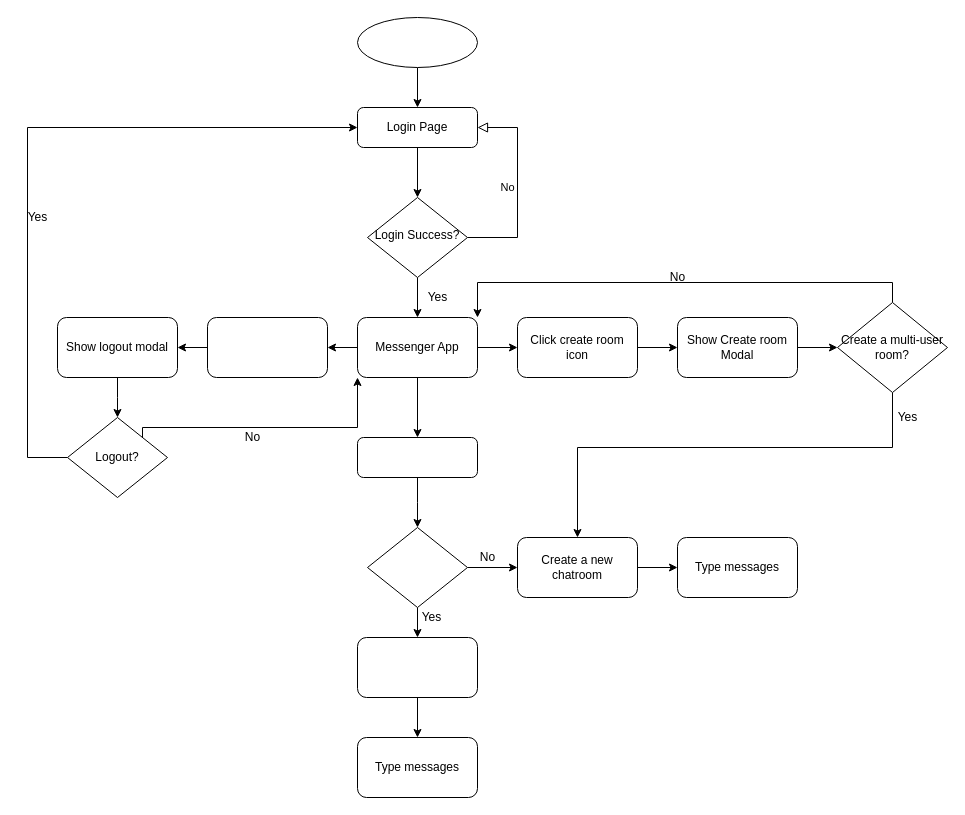
Some shapes in this 965 by 815 pixel diagram are drawn without their labels. Here are the shapes that lost their labels. From the top down, the centre of each, then its label:
At point (417, 42): "Start".
At point (267, 347): "Click the user avatar".
At point (417, 457): "Click a friend".
At point (417, 567): "Room Existed?".
At point (417, 667): "Jump to the existed room".
